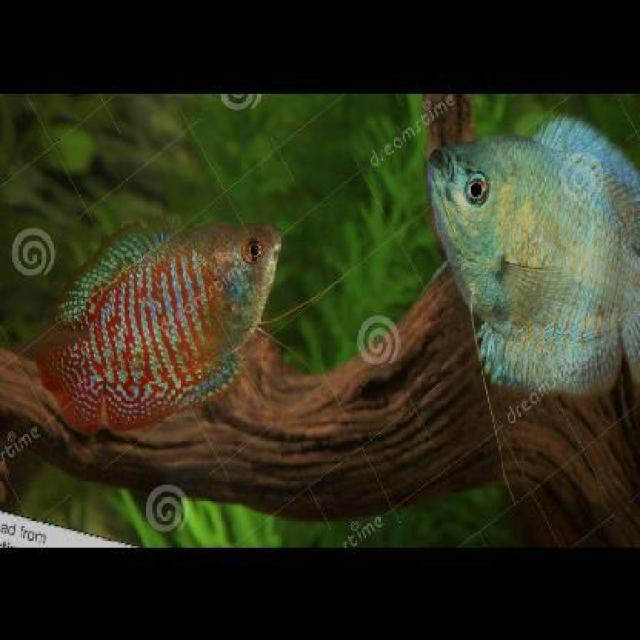Gourami: (420, 108, 638, 409), (31, 215, 292, 434)
